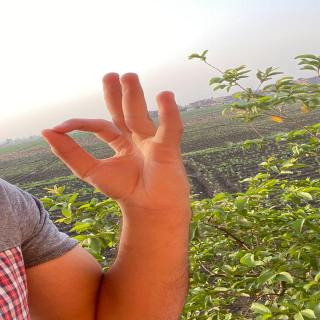Space: (45, 62, 194, 198)
